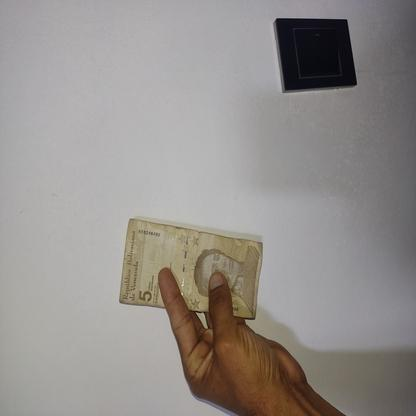five-front-vef: (118, 217, 263, 319)
